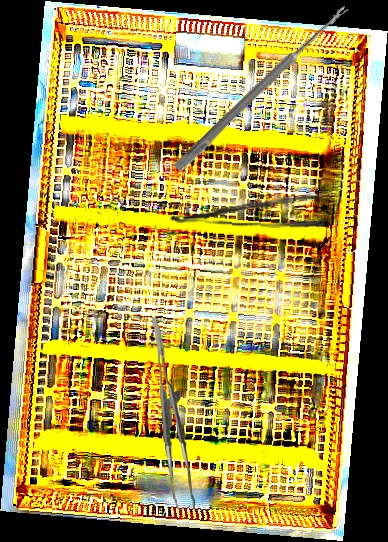Dressing Forceps: (169, 188, 325, 230)
Surgical Spoon: (173, 2, 350, 174)
Tissue Forceps: (152, 316, 195, 510)
